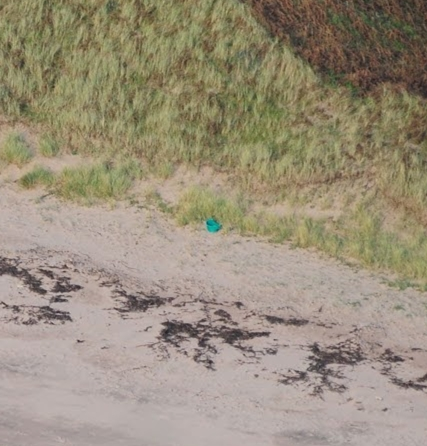together_barrel: (181, 195, 244, 251)
